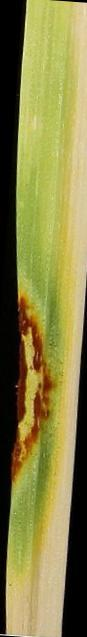Wheat: (13, 264, 66, 498)
